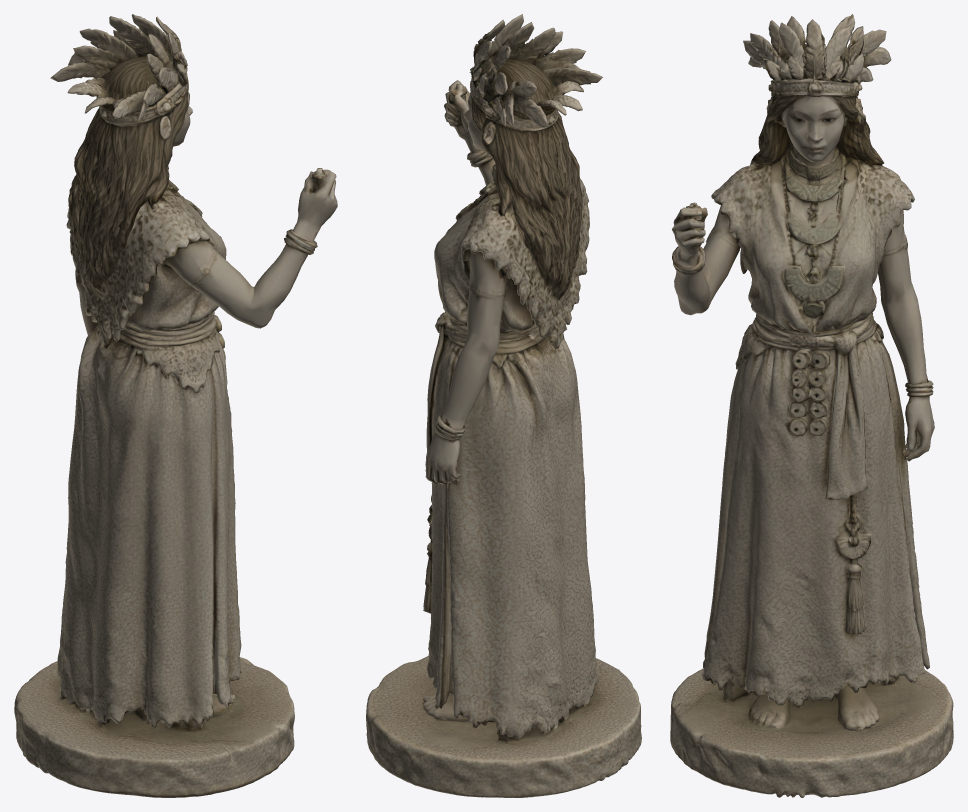
The model's file is ancient_statue_3d_model_1.fbx.
3 renders of one model, left to right at view 1: azimuth 30°, elevation 25°; view 2: azimuth 150°, elevation 25°; view 3: azimuth 270°, elevation 25°, orthographic.
Visible parts, largest first — view 1: tripo_node_4e3ac99f; view 2: tripo_node_4e3ac99f; view 3: tripo_node_4e3ac99f.
Boxes of the visible parts, x1,y1,x2,y2 form: tripo_node_4e3ac99f: [14, 14, 337, 797]; tripo_node_4e3ac99f: [366, 14, 641, 797]; tripo_node_4e3ac99f: [670, 14, 953, 797].
Bounding box in the file's own units: 0.3404 × 0.9828 × 0.3489.
